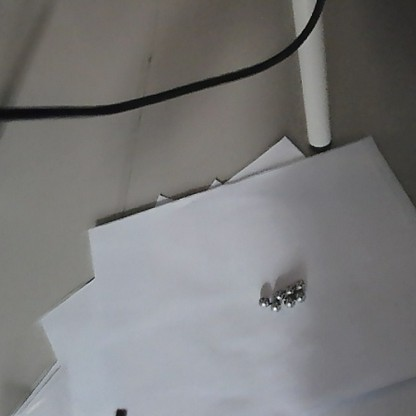ironball: (292, 276, 307, 290), (293, 289, 307, 304), (281, 281, 294, 297), (255, 294, 268, 310), (269, 289, 284, 302), (269, 300, 282, 314), (283, 299, 295, 311)
